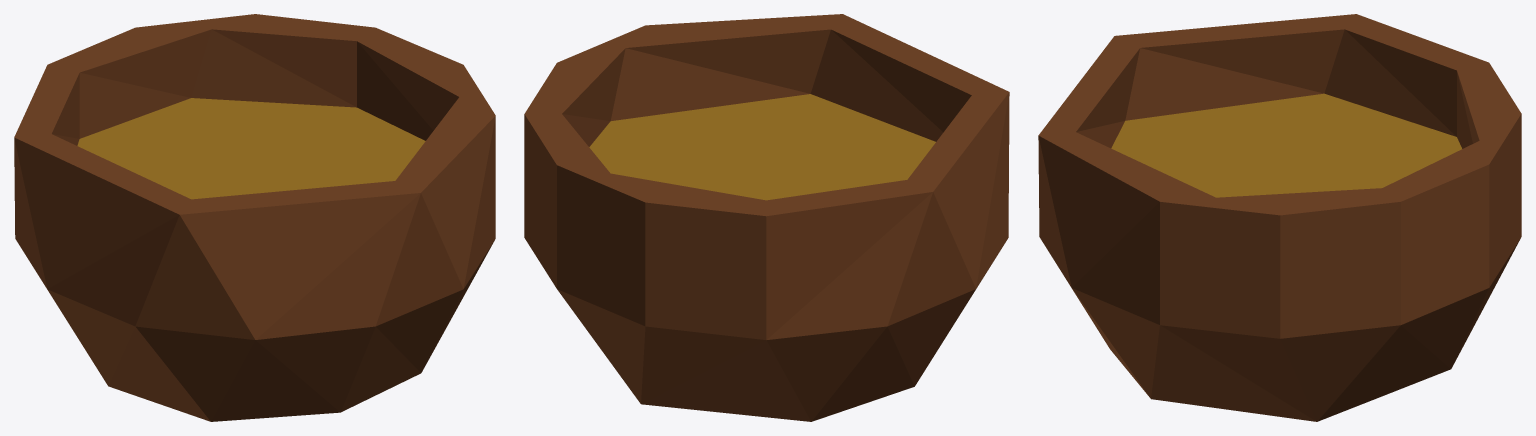
Rendered from soup.fbx.
The picture shows the model from 3 angles, left to right: view 1: azimuth 30°, elevation 25°; view 2: azimuth 150°, elevation 25°; view 3: azimuth 270°, elevation 25°; orthographic projection.
Parts seen in each view (by area): view 1: Cylinder; view 2: Cylinder; view 3: Cylinder.
Part boxes in pixels (bbox=[...]): Cylinder: bbox=[14, 14, 495, 421]; Cylinder: bbox=[524, 14, 1009, 421]; Cylinder: bbox=[1038, 14, 1521, 421].
Size of the model in its own units: 200 by 120 by 200.
